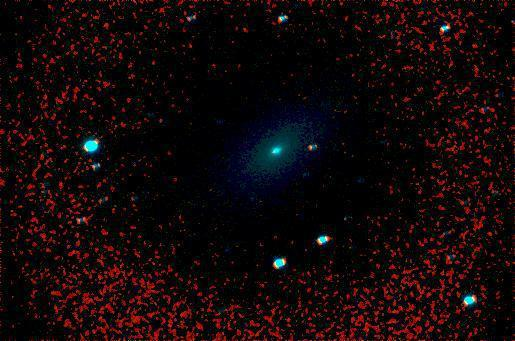star: (292, 130, 322, 160)
